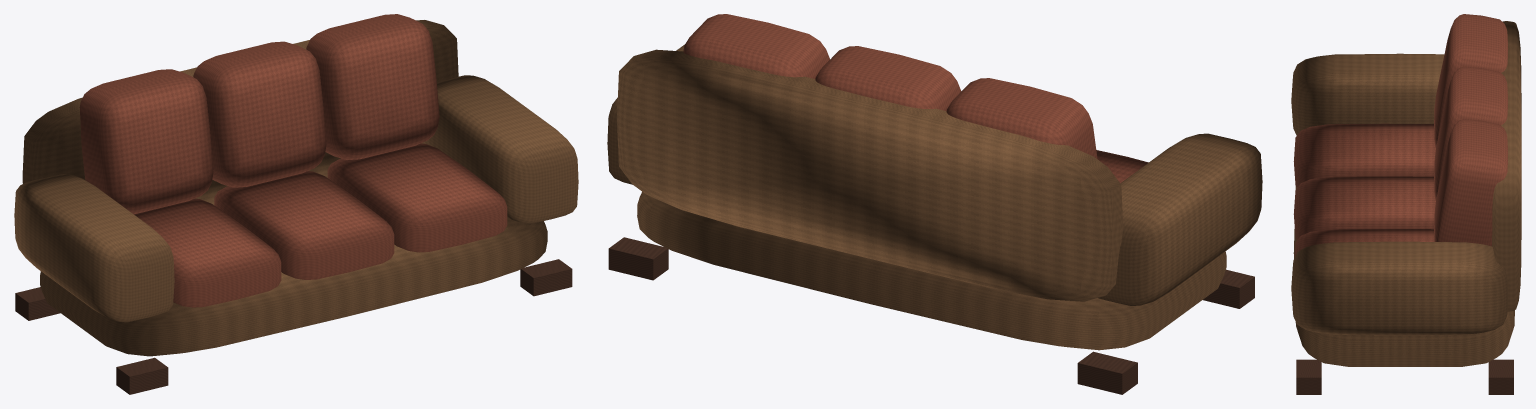
The picture shows the model from 3 angles, left to right: view 1: azimuth 30°, elevation 25°; view 2: azimuth 150°, elevation 25°; view 3: azimuth 270°, elevation 25°; orthographic projection. The views are drawn at different scales.
Visible parts, largest first — view 1: 5 base_frame, 6 armrest_left, 11 back_cushion_left, 13 back_cushion_right, 12 back_cushion_center, 7 armrest_right, 9 seat_cushion_center, 10 seat_cushion_right, 8 seat_cushion_left, 14 back_frame, 1 leg_front_left, 2 leg_front_right (+1 smaller); view 2: 14 back_frame, 5 base_frame, 6 armrest_left, 11 back_cushion_left, 13 back_cushion_right, 12 back_cushion_center, 3 leg_back_left, 4 leg_back_right, 1 leg_front_left, 7 armrest_right, 8 seat_cushion_left; view 3: 7 armrest_right, 6 armrest_left, 9 seat_cushion_center, 8 seat_cushion_left, 13 back_cushion_right, 5 base_frame, 14 back_frame, 12 back_cushion_center, 11 back_cushion_left, 10 seat_cushion_right, 2 leg_front_right, 4 leg_back_right.
Boxes of the visible parts, x1=… form: 5 base_frame: x1=40, y1=217, x2=547, y2=356; 6 armrest_left: x1=14, y1=174, x2=174, y2=322; 11 back_cushion_left: x1=79, y1=69, x2=213, y2=214; 13 back_cushion_right: x1=306, y1=14, x2=439, y2=159; 12 back_cushion_center: x1=193, y1=41, x2=326, y2=187; 7 armrest_right: x1=422, y1=75, x2=578, y2=223; 9 seat_cushion_center: x1=214, y1=171, x2=394, y2=279; 10 seat_cushion_right: x1=327, y1=143, x2=507, y2=252; 8 seat_cushion_left: x1=134, y1=198, x2=281, y2=307; 14 back_frame: x1=22, y1=20, x2=458, y2=204; 1 leg_front_left: x1=116, y1=357, x2=168, y2=394; 2 leg_front_right: x1=520, y1=259, x2=572, y2=296; 14 back_frame: x1=617, y1=49, x2=1123, y2=301; 5 base_frame: x1=637, y1=191, x2=1226, y2=350; 6 armrest_left: x1=1098, y1=133, x2=1262, y2=305; 11 back_cushion_left: x1=946, y1=78, x2=1097, y2=158; 13 back_cushion_right: x1=683, y1=14, x2=829, y2=78; 12 back_cushion_center: x1=815, y1=46, x2=961, y2=110; 3 leg_back_left: x1=1077, y1=351, x2=1137, y2=394; 4 leg_back_right: x1=608, y1=237, x2=668, y2=280; 1 leg_front_left: x1=1203, y1=269, x2=1254, y2=308; 7 armrest_right: x1=607, y1=44, x2=684, y2=184; 8 seat_cushion_left: x1=1096, y1=150, x2=1148, y2=183; 7 armrest_right: x1=1291, y1=241, x2=1507, y2=335; 6 armrest_left: x1=1291, y1=53, x2=1444, y2=135; 9 seat_cushion_center: x1=1293, y1=176, x2=1435, y2=239; 8 seat_cushion_left: x1=1293, y1=123, x2=1435, y2=187; 13 back_cushion_right: x1=1434, y1=119, x2=1507, y2=246; 5 base_frame: x1=1293, y1=186, x2=1514, y2=366; 14 back_frame: x1=1492, y1=21, x2=1521, y2=311; 12 back_cushion_center: x1=1434, y1=66, x2=1508, y2=200; 11 back_cushion_left: x1=1434, y1=14, x2=1508, y2=147; 10 seat_cushion_right: x1=1294, y1=229, x2=1434, y2=257; 2 leg_front_right: x1=1296, y1=359, x2=1321, y2=394; 4 leg_back_right: x1=1488, y1=359, x2=1513, y2=394.
Bounding box in the file's own units: 2.25 × 1 × 1.
Materials: 3 (3 with a texture image).
